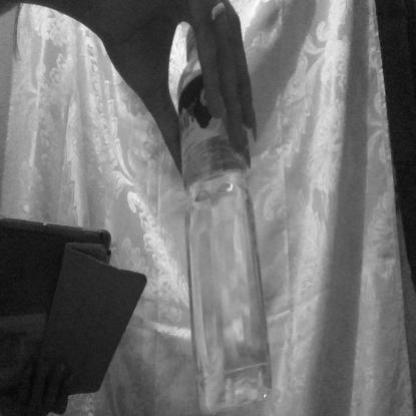Plastic Bottle: (162, 18, 279, 416)
